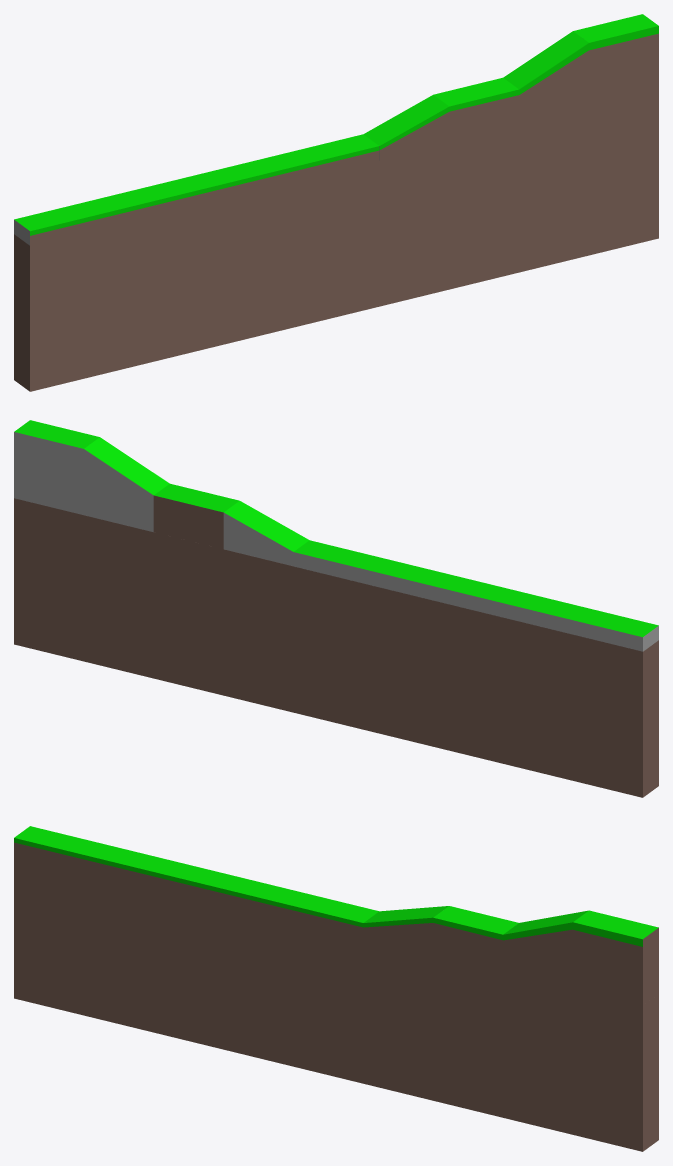
The model's file is firsrt_1.fbx.
3 renders of one model, top to bottom at view 1: azimuth 30°, elevation 25°; view 2: azimuth 150°, elevation 25°; view 3: azimuth 330°, elevation 25°, orthographic.
Visible parts, largest first — view 1: polySurface4; view 2: polySurface4; view 3: polySurface4.
Part boxes in pixels (x1,y1,x2,y2): polySurface4: (14, 14, 658, 391); polySurface4: (14, 420, 658, 797); polySurface4: (14, 826, 658, 1151).
Size of the model in its own units: 45 by 14.54 by 2.01.
